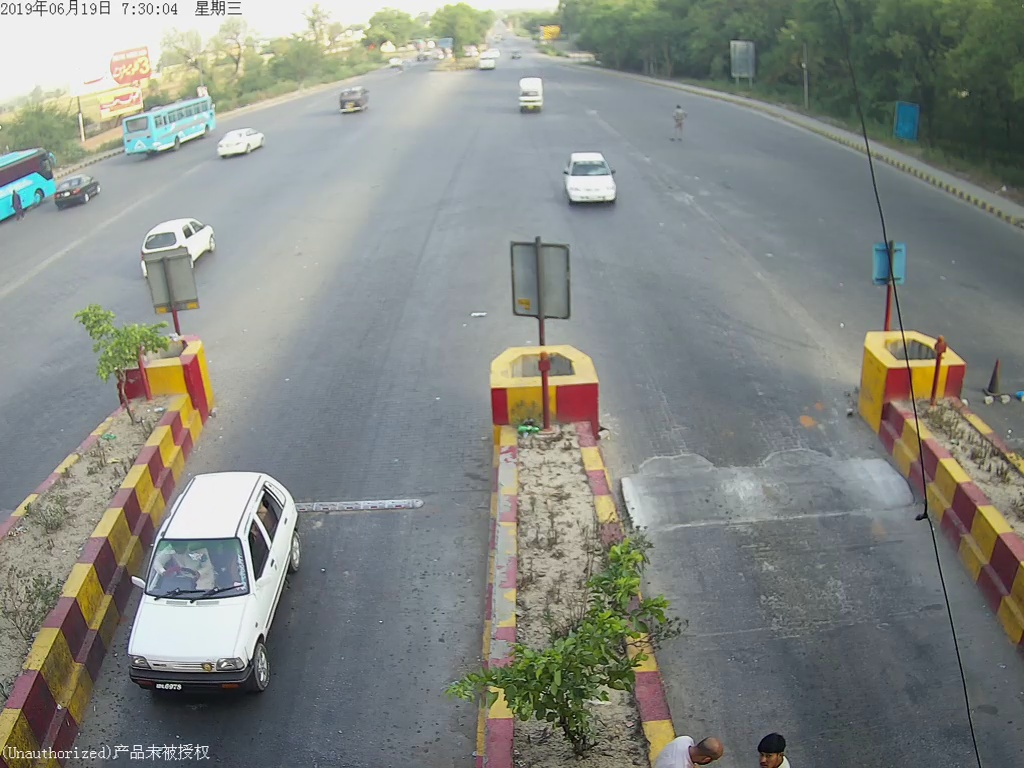Cat-1: (124, 469, 309, 698), (562, 150, 624, 207)
